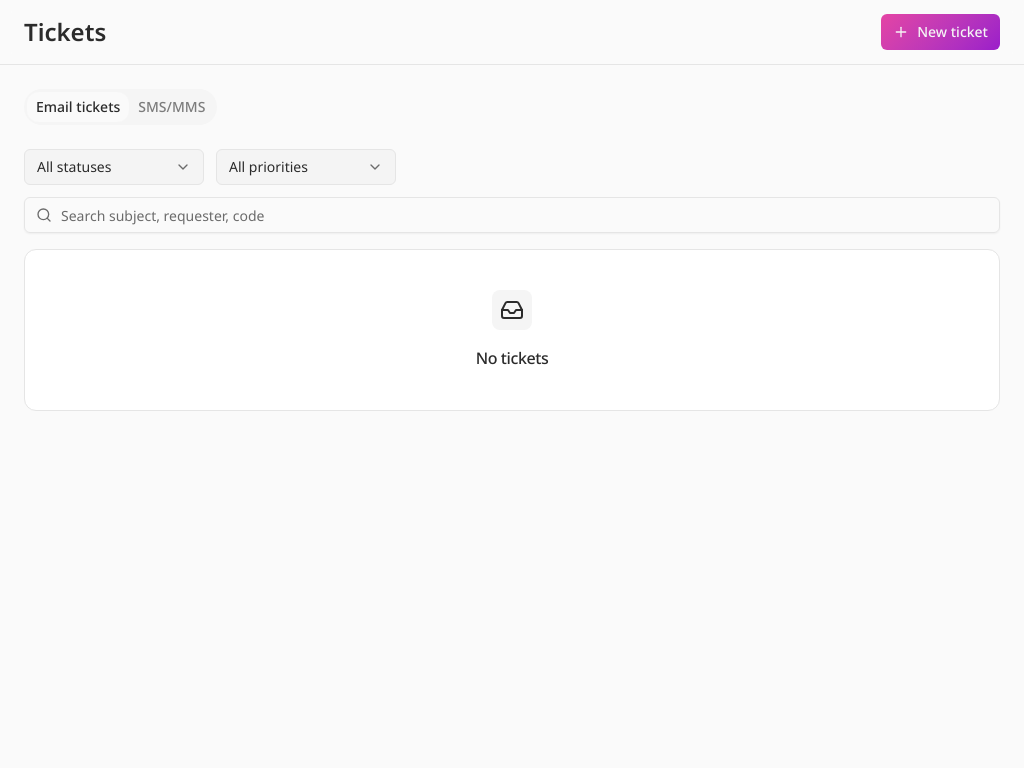
Test case: TicketsPage › shows inline errors on every empty compose field instead of sending
The width and height of the screenshot is (1024, 768).
Click the button "New ticket". click: (941, 32)
box: [881,14,1000,50]
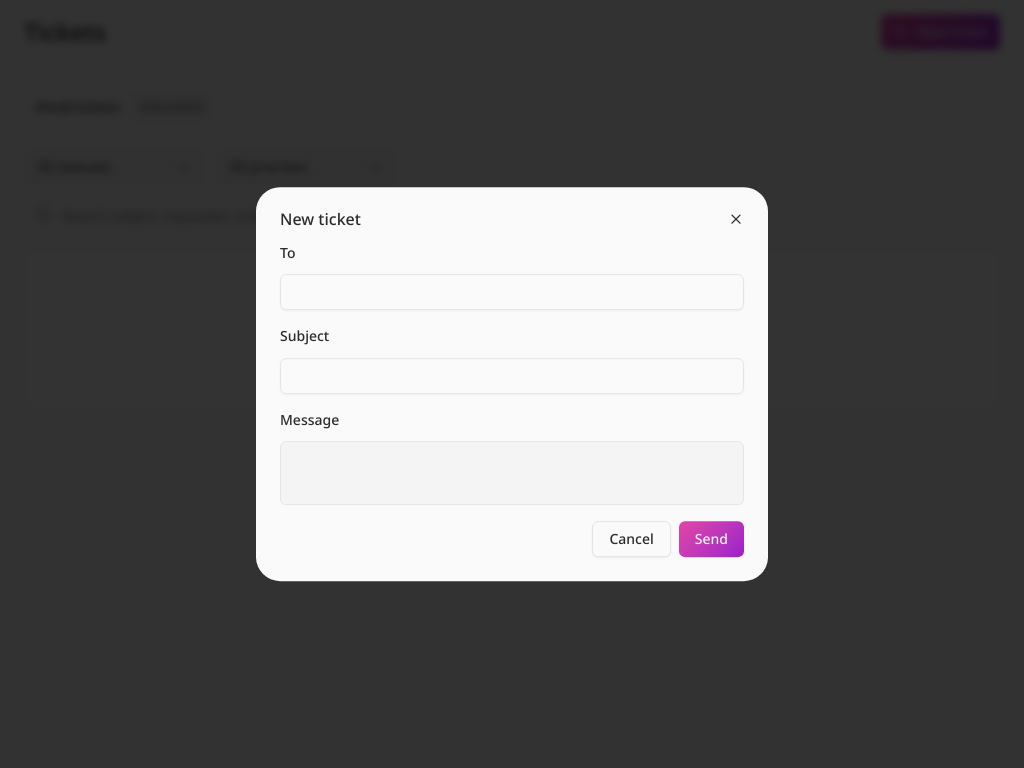
Click the button "Send". click: (711, 539)
box: [679,521,744,557]
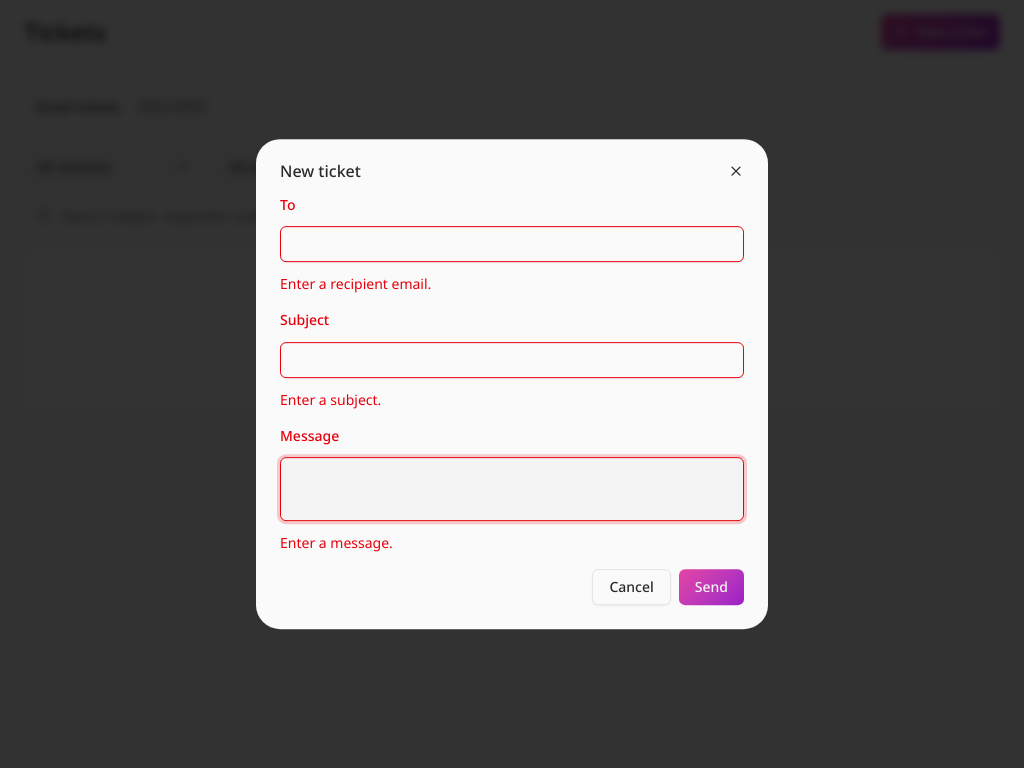
Now the text "Enter a recipient email." is shown, box [280,274,431,293]
Now the text "Enter a subject." is shown, box [280,390,381,409]
Now the text "Enter a message." is shown, box [280,533,393,552]
Type "not-an-email" into the field labelled "To". click: (512, 244)
box: [280,226,744,262]
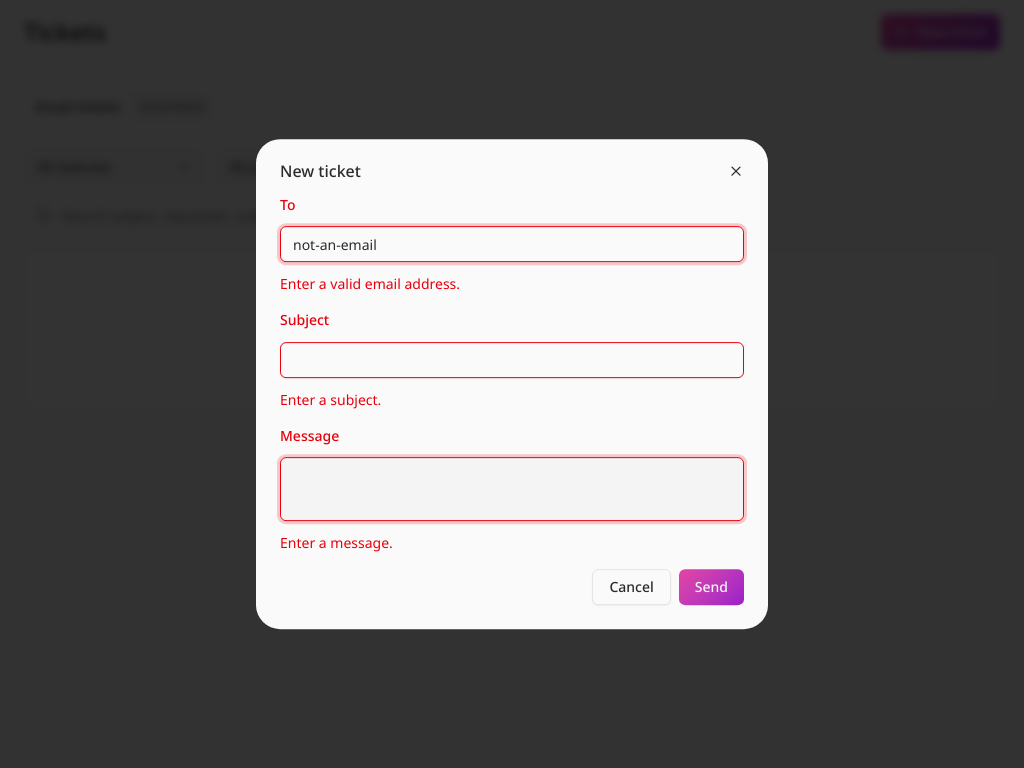
Now the text "Enter a valid email address." is shown, box [280,274,460,293]
